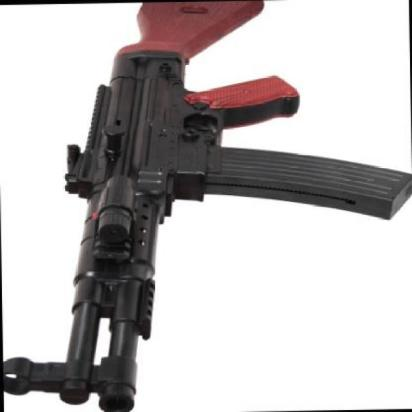Gun: (1, 0, 389, 412)
